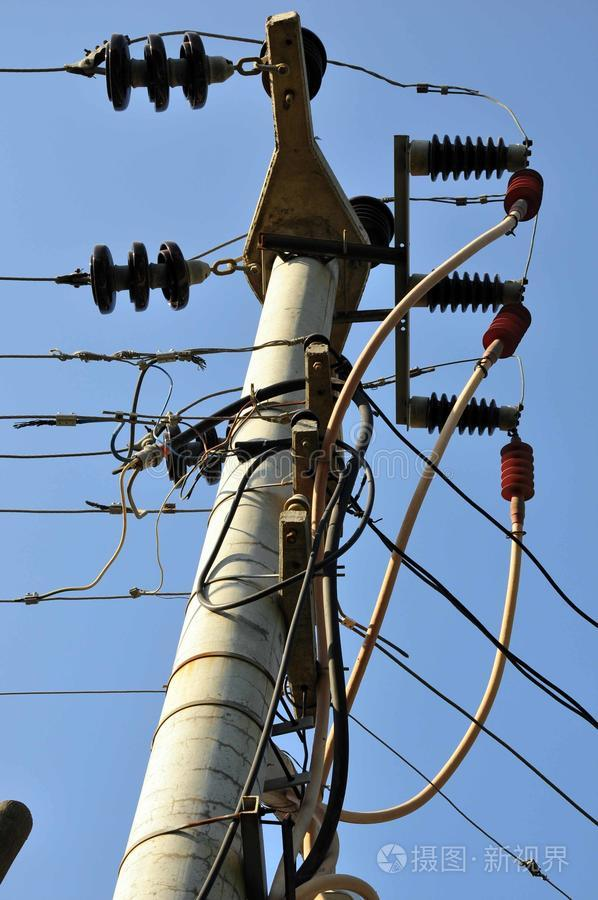insulator: (97, 29, 209, 113), (86, 241, 192, 317), (424, 131, 509, 179), (426, 389, 499, 435), (430, 269, 504, 311), (482, 305, 530, 356), (497, 442, 538, 499), (503, 168, 543, 207)
